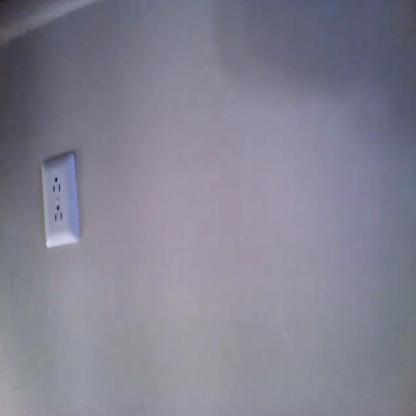OUTLET: (42, 152, 77, 247)
